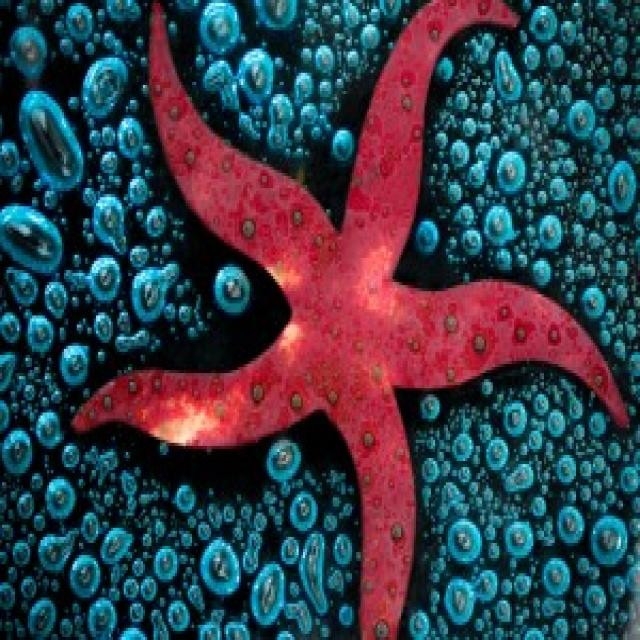Starfish: (56, 0, 634, 640)
